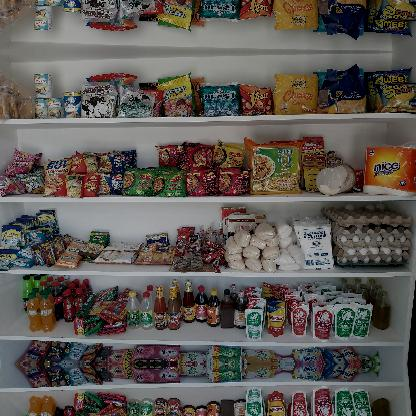Lady-s-Choice: (316, 162, 356, 196)
